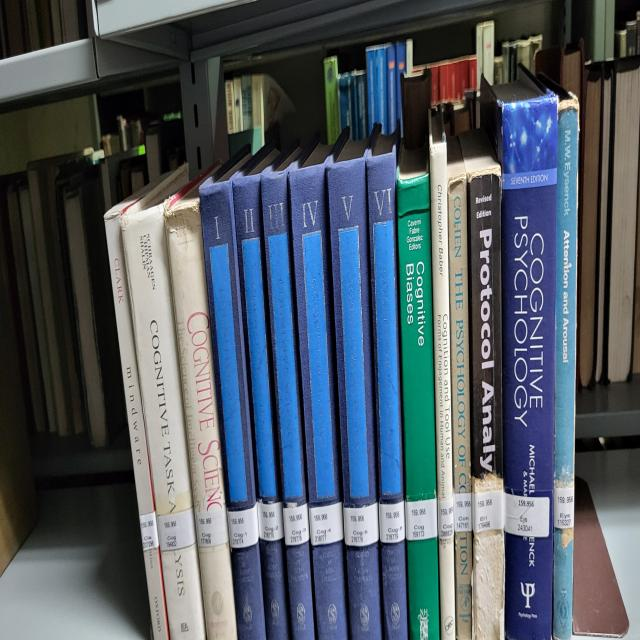Book: (481, 76, 558, 639), (121, 165, 206, 639), (164, 176, 238, 639), (200, 170, 266, 639), (105, 195, 170, 639), (290, 143, 348, 639), (232, 146, 290, 639), (328, 141, 382, 639), (261, 157, 315, 639), (460, 127, 505, 639), (396, 143, 440, 639), (366, 124, 408, 639), (552, 87, 579, 639), (429, 108, 456, 640), (448, 138, 472, 639), (404, 76, 430, 135)
Label: (158, 509, 196, 552), (309, 501, 344, 547), (344, 503, 379, 547), (228, 503, 259, 549), (405, 498, 438, 541), (471, 490, 504, 533), (195, 506, 229, 547), (282, 503, 309, 547), (379, 501, 405, 544), (258, 501, 284, 541), (140, 511, 159, 552), (454, 492, 472, 533), (438, 498, 454, 538)
